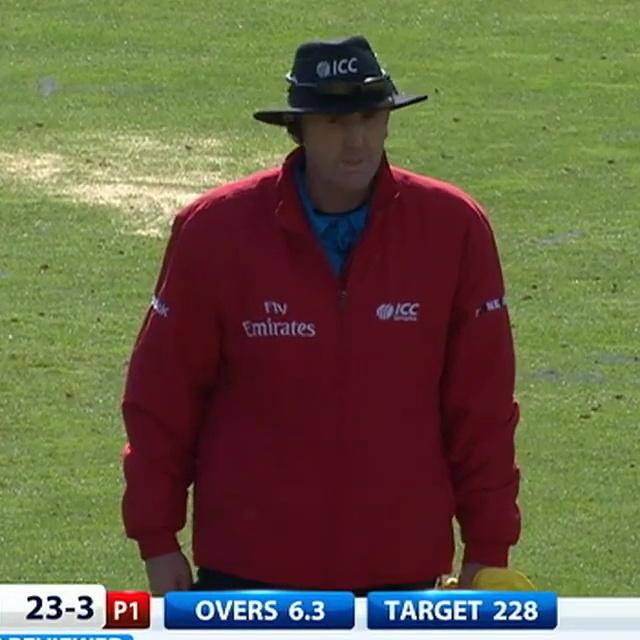umpire: (90, 3, 558, 597)
